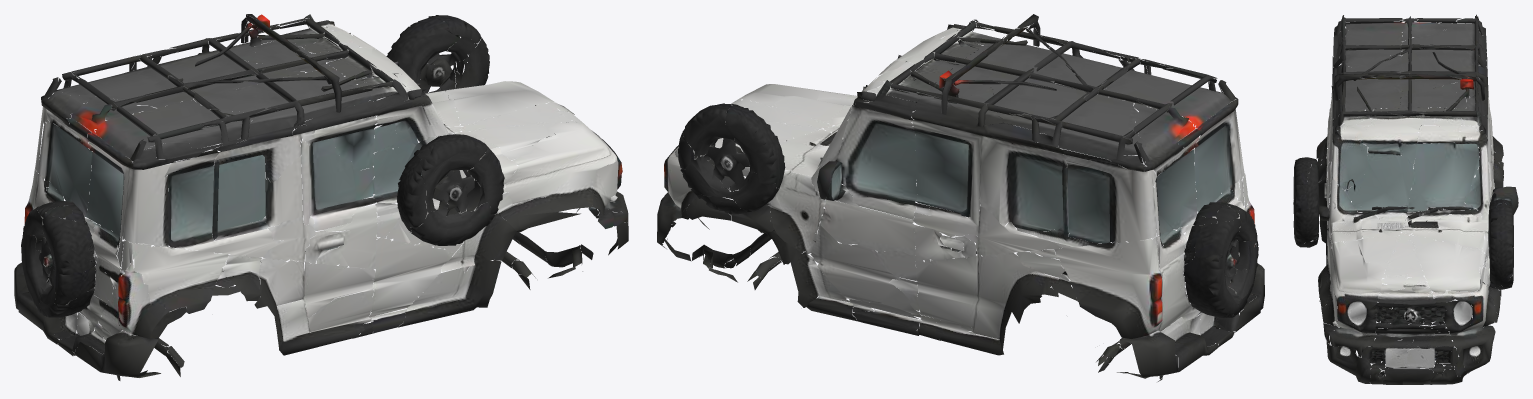
Rendered from jimny.glb.
3 views of the same model, side by side, from view 1: azimuth 30°, elevation 25°; view 2: azimuth 150°, elevation 25°; view 3: azimuth 270°, elevation 25° (orthographic). The views are drawn at different scales.
Parts seen in each view (by area): view 1: V_BODY; view 2: V_BODY; view 3: V_BODY.
Boxes of the visible parts, left/top/right/bottom form: V_BODY: left=14, top=14, right=628, bottom=380; V_BODY: left=657, top=14, right=1264, bottom=381; V_BODY: left=1293, top=14, right=1518, bottom=384.
Bounding box in the file's own units: 3.6 × 1.72 × 1.62.
1 material, 1 textured.
